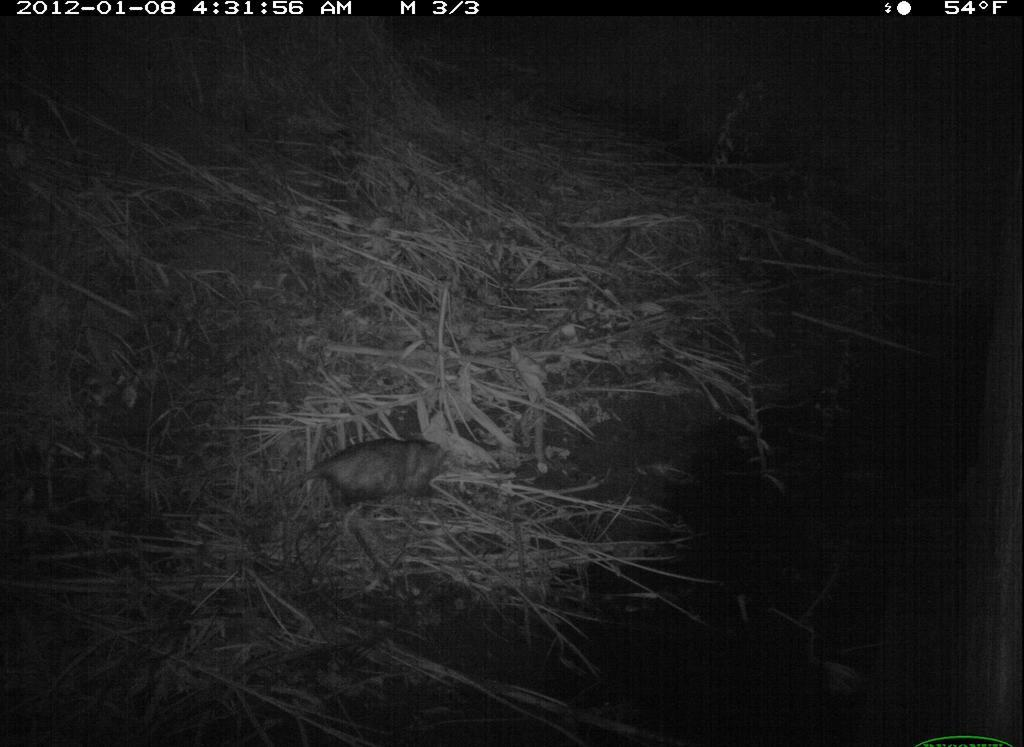opossum: (249, 417, 473, 519)
